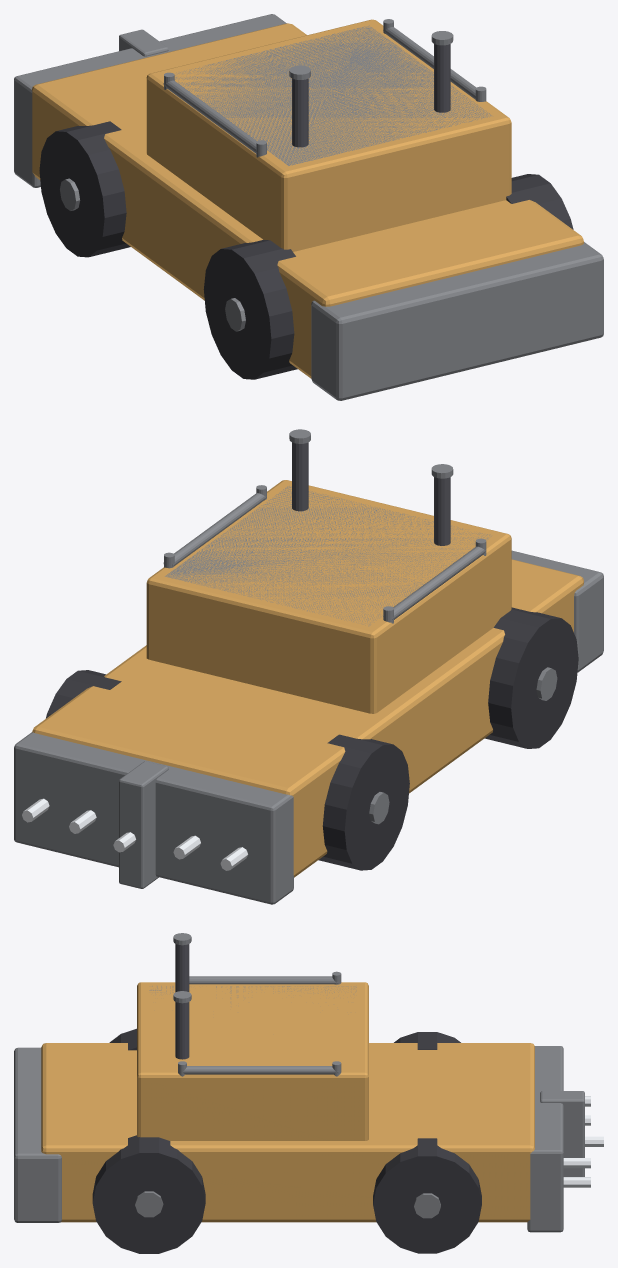
Rendered from armored_juggernaut.glb.
The picture shows the model from 3 angles, top to bottom: view 1: azimuth 30°, elevation 25°; view 2: azimuth 150°, elevation 25°; view 3: azimuth 270°, elevation 25°; orthographic projection. The views are drawn at different scales.
Visible parts, largest first — view 1: Bunker_Cab_Base, Juggernaut_Hull, AJ_Rear_Bumper, Bunker_Cab_Roof, AJ_W_RR_tire, AJ_W_FR_tire, V_Plow_Right_Blade, AJ_W_RL_tire, V_Plow_Left_Blade, AJ_Cage_Top_R, Smokestack_R, Smokestack_L (+4 smaller); view 2: Bunker_Cab_Base, Juggernaut_Hull, Bunker_Cab_Roof, V_Plow_Right_Blade, V_Plow_Left_Blade, AJ_W_RR_tire, AJ_W_FR_tire, V_Plow_Center_Prow, AJ_Rear_Bumper, AJ_W_FL_tire, AJ_Cage_Top_R, AJ_Cage_Top_L (+2 smaller); view 3: Juggernaut_Hull, Bunker_Cab_Base, AJ_W_RL_tire, AJ_W_FL_tire, AJ_Rear_Bumper, V_Plow_Left_Blade, V_Plow_Center_Prow, AJ_Cage_Top_L, V_Plow_Right_Blade, AJ_Cage_Top_R, Smokestack_L, Smokestack_R (+3 smaller).
Part boxes in pixels (x1,y1,x2,y2): Bunker_Cab_Base: [146, 19, 511, 251]; Juggernaut_Hull: [32, 23, 583, 378]; AJ_Rear_Bumper: [311, 242, 603, 400]; Bunker_Cab_Roof: [174, 25, 491, 165]; AJ_W_RR_tire: [203, 239, 297, 379]; AJ_W_FR_tire: [39, 121, 130, 257]; V_Plow_Right_Blade: [14, 48, 157, 187]; AJ_W_RL_tire: [506, 174, 573, 229]; V_Plow_Left_Blade: [155, 14, 286, 55]; AJ_Cage_Top_R: [163, 80, 257, 153]; Smokestack_R: [292, 78, 308, 147]; Smokestack_L: [434, 44, 450, 112]; Bunker_Cab_Base: [146, 480, 511, 713]; Juggernaut_Hull: [32, 559, 583, 877]; Bunker_Cab_Roof: [165, 486, 491, 626]; V_Plow_Right_Blade: [155, 763, 293, 904]; V_Plow_Left_Blade: [14, 732, 157, 867]; AJ_W_RR_tire: [484, 607, 578, 748]; AJ_W_FR_tire: [318, 734, 409, 870]; V_Plow_Center_Prow: [119, 761, 168, 888]; AJ_Rear_Bumper: [511, 550, 603, 672]; AJ_W_FL_tire: [46, 670, 121, 718]; AJ_Cage_Top_R: [392, 546, 485, 619]; AJ_Cage_Top_L: [163, 493, 266, 566]; Juggernaut_Hull: [41, 1043, 534, 1222]; Bunker_Cab_Base: [137, 982, 368, 1140]; AJ_W_RL_tire: [92, 1135, 205, 1253]; AJ_W_FL_tire: [373, 1138, 481, 1253]; AJ_Rear_Bumper: [14, 1047, 61, 1222]; V_Plow_Left_Blade: [527, 1098, 563, 1232]; V_Plow_Center_Prow: [540, 1091, 584, 1176]; AJ_Cage_Top_L: [182, 1066, 338, 1074]; V_Plow_Right_Blade: [535, 1046, 563, 1098]; AJ_Cage_Top_R: [189, 976, 338, 984]; Smokestack_L: [175, 1002, 189, 1059]; Smokestack_R: [175, 944, 189, 992].
Size of the model in its own units: 3.02 by 2.47 by 5.85.
